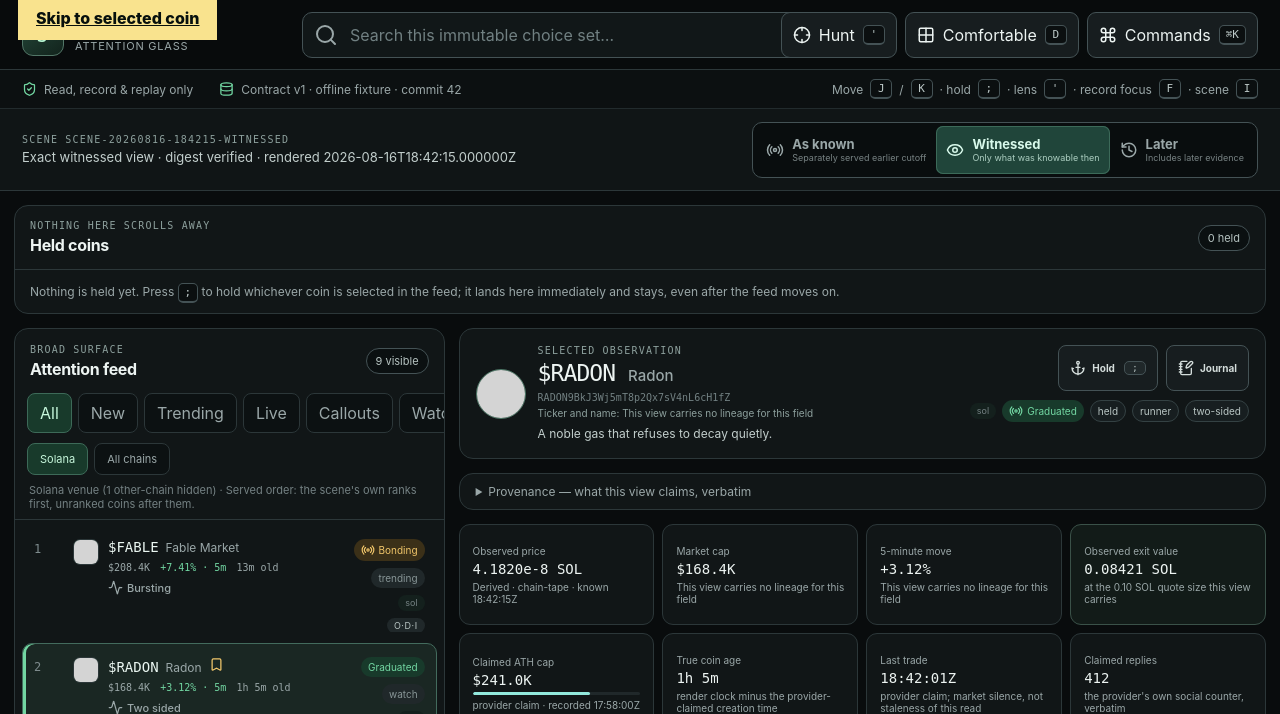
Test: accessibility-first glass › keeps later-only candidates and social evidence out of the witnessed lens
Check: the heading "$RADON Radon" is shown, box [538,360,674,386]
Click the radio button labelled "Later Includes later evidence".
click(1182, 150)  # box [1110,126,1254,174]
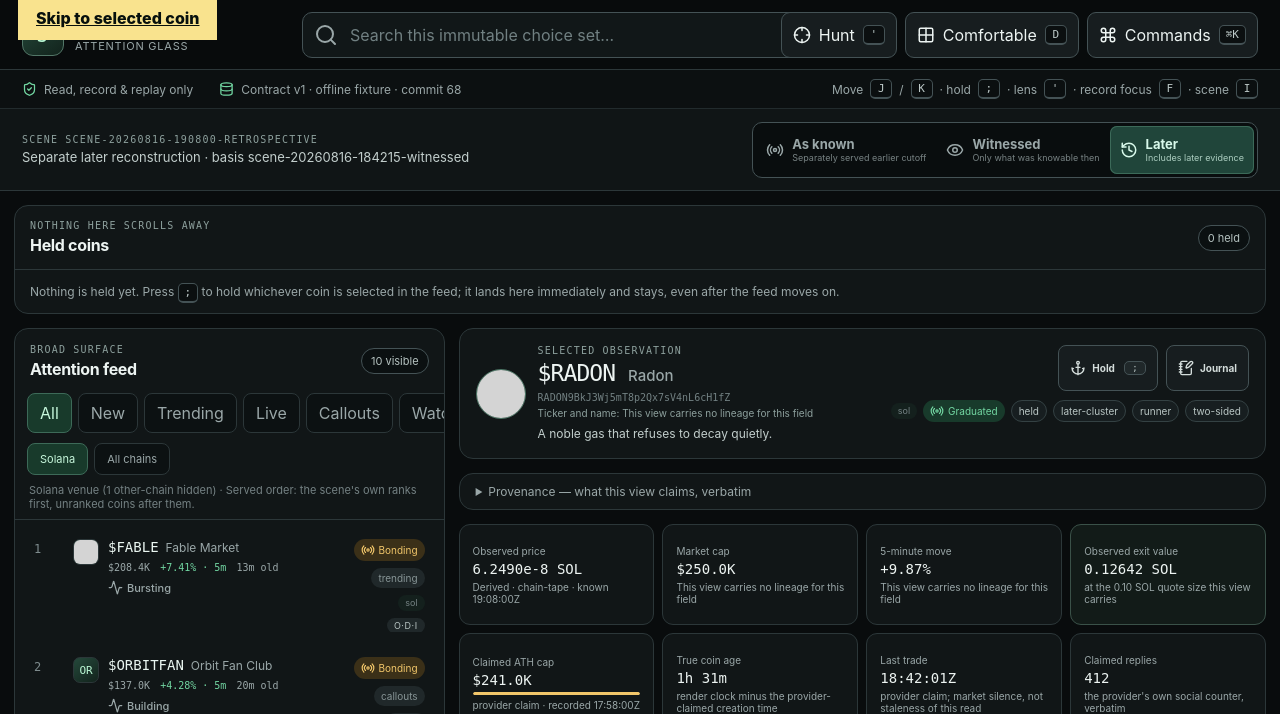
Check: the text "Separate later reconstruction" is shown, box [22,149,469,165]
Type keys "/"
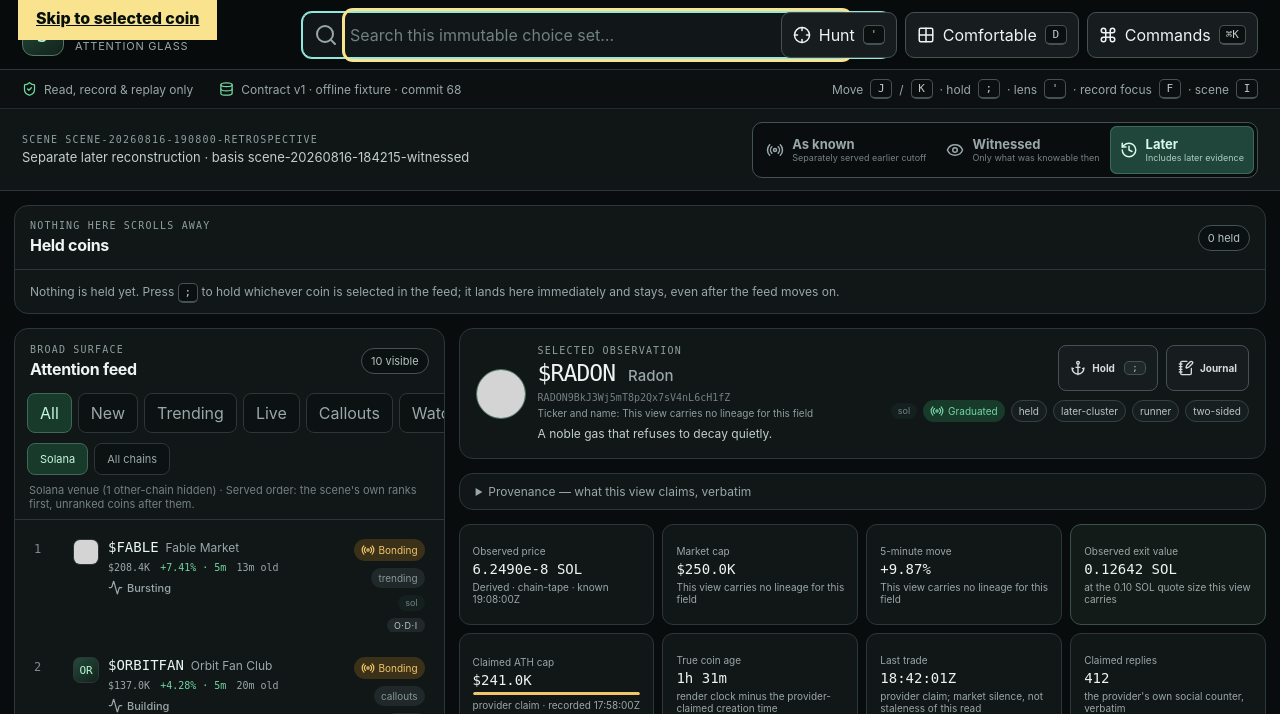
Type "afterglow" into the search field named "search candidates in this served snapshot".
click(598, 34); type("afterglow")  # box [348,14,847,56]
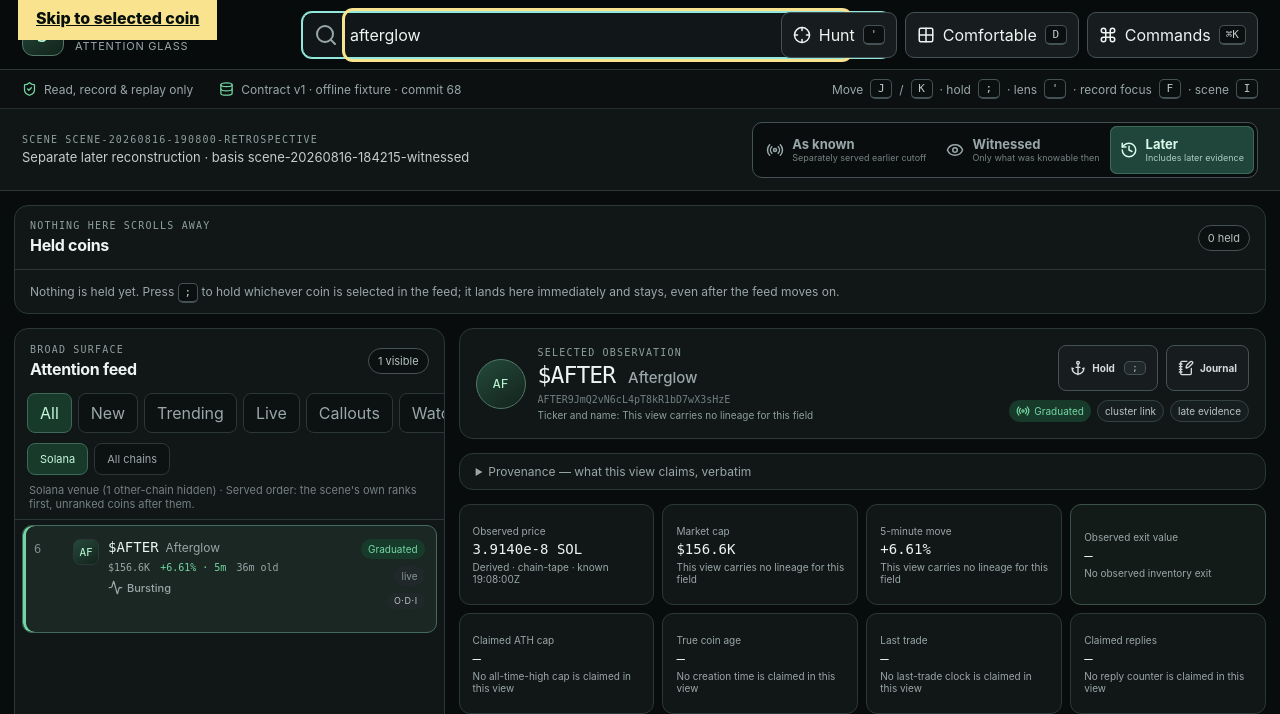
Check: the option "Afterglow" is shown, box [15,520,444,638]
